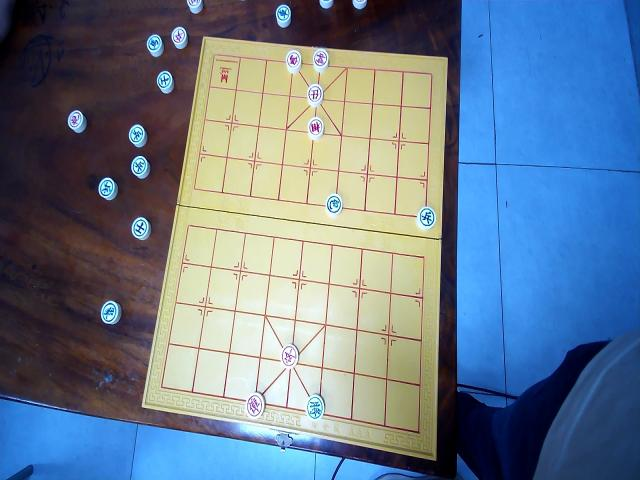piece: (245, 392, 265, 419), (416, 205, 436, 230), (100, 300, 120, 325), (98, 176, 118, 200), (130, 154, 150, 178), (131, 216, 150, 241), (280, 342, 298, 368), (306, 394, 324, 420), (67, 108, 86, 132), (128, 122, 146, 147), (324, 191, 342, 216), (284, 48, 302, 72), (156, 68, 174, 92), (171, 26, 188, 50), (307, 116, 324, 140), (275, 3, 291, 28), (312, 48, 328, 71), (307, 83, 323, 106), (147, 33, 163, 56), (186, 0, 203, 13), (352, 0, 367, 9), (319, 0, 333, 9)
